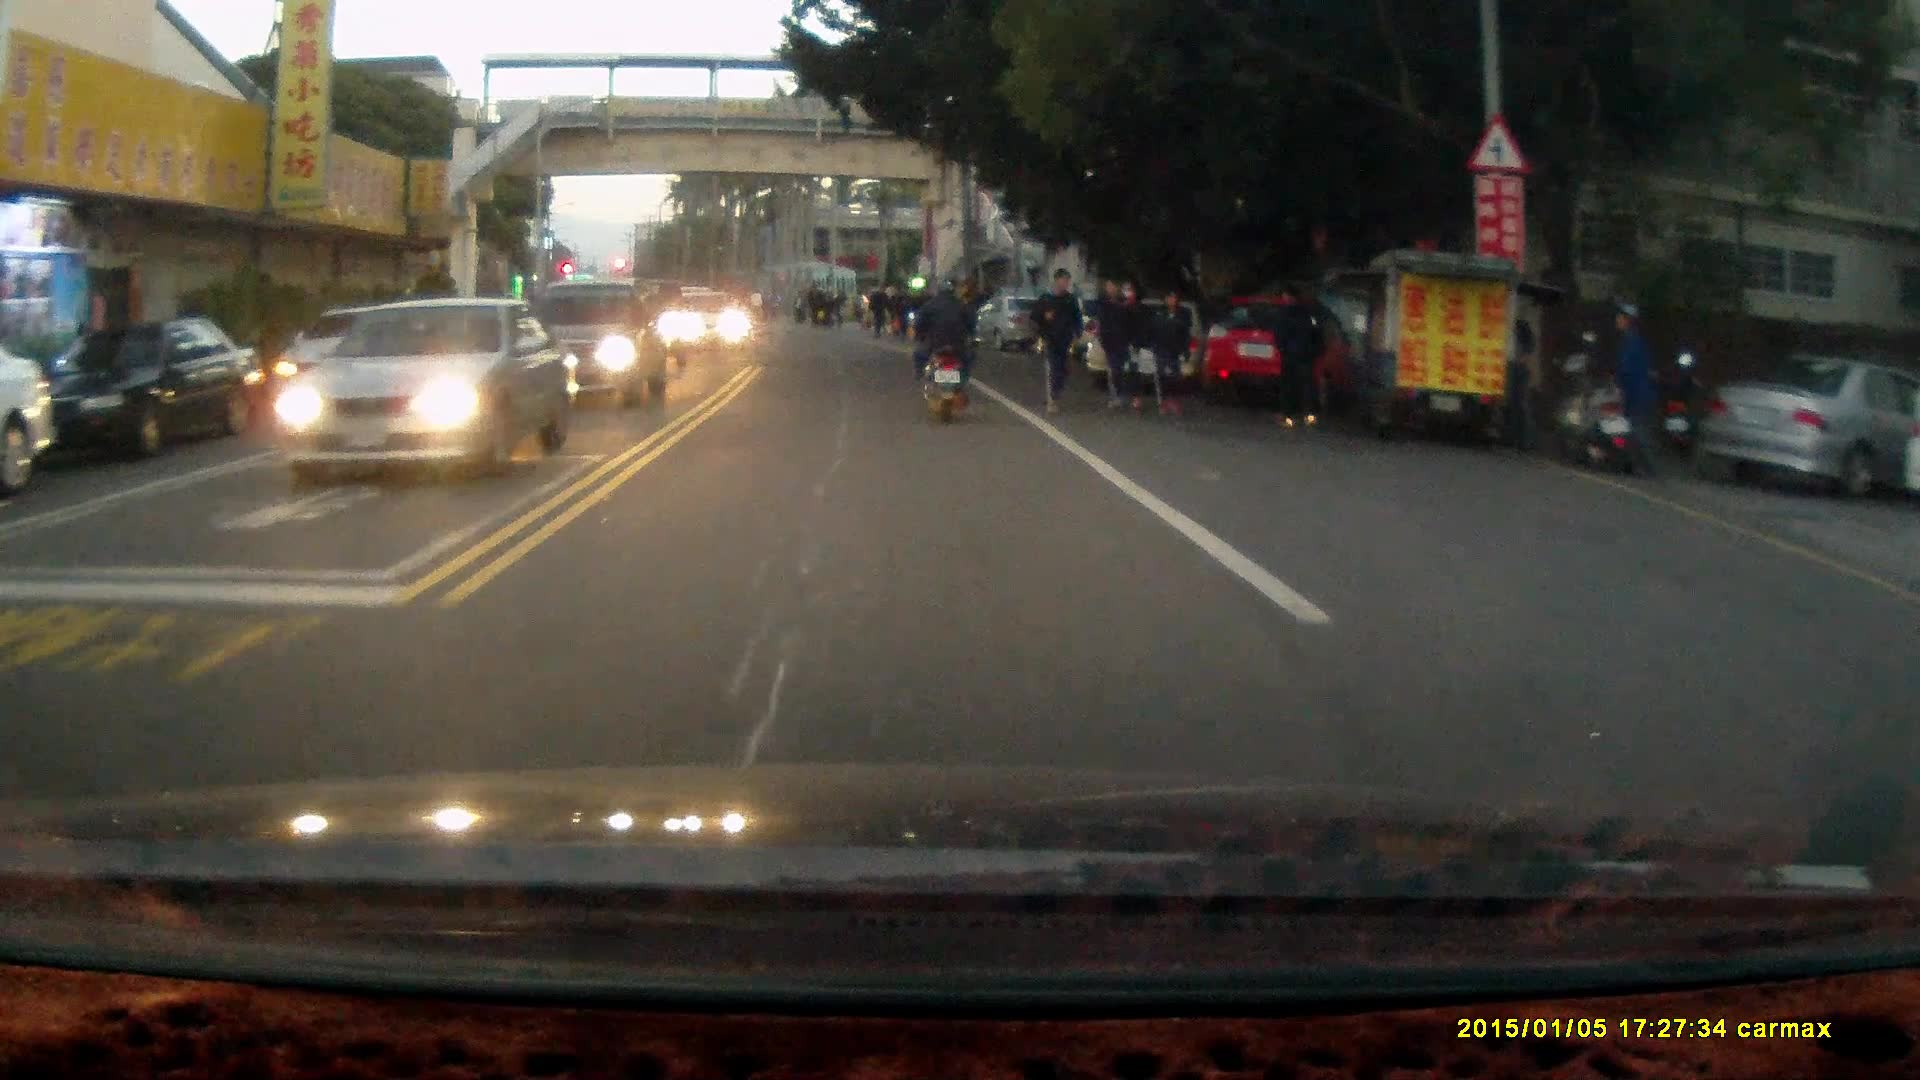pedestrian: (1608, 281, 1665, 458), (1265, 277, 1328, 433), (1030, 265, 1087, 417), (1148, 285, 1199, 421), (1094, 275, 1133, 414)
rider: (906, 276, 983, 431)
vehicle: (276, 298, 570, 479), (1701, 358, 1920, 507), (43, 314, 254, 456), (529, 282, 667, 414), (1198, 298, 1354, 412), (1079, 294, 1238, 399), (1, 348, 62, 495), (976, 297, 1061, 358), (671, 292, 752, 355)
